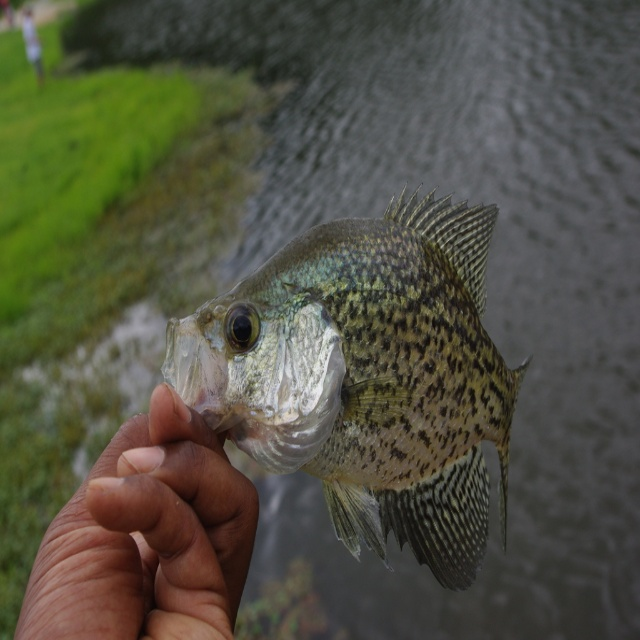Fish: (148, 190, 536, 591)
